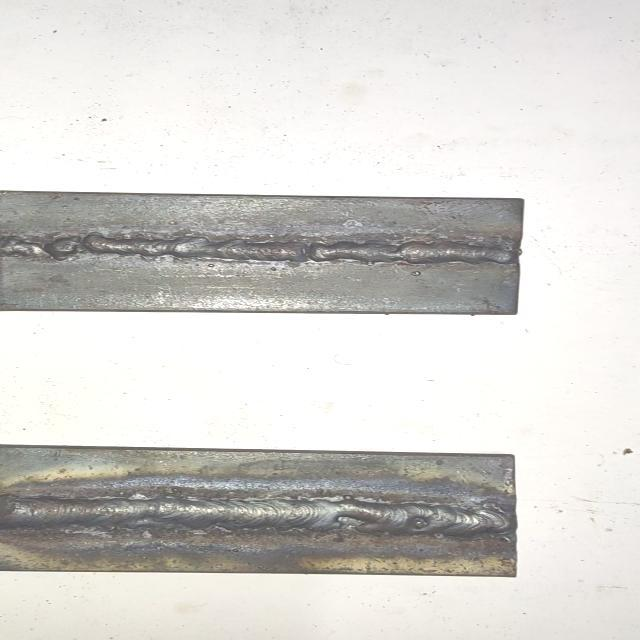Defect: (0, 228, 112, 266), (312, 510, 396, 542)
Welding Line: (0, 498, 512, 538), (0, 236, 526, 266)
Workpiece: (0, 438, 534, 582), (0, 188, 540, 317)
